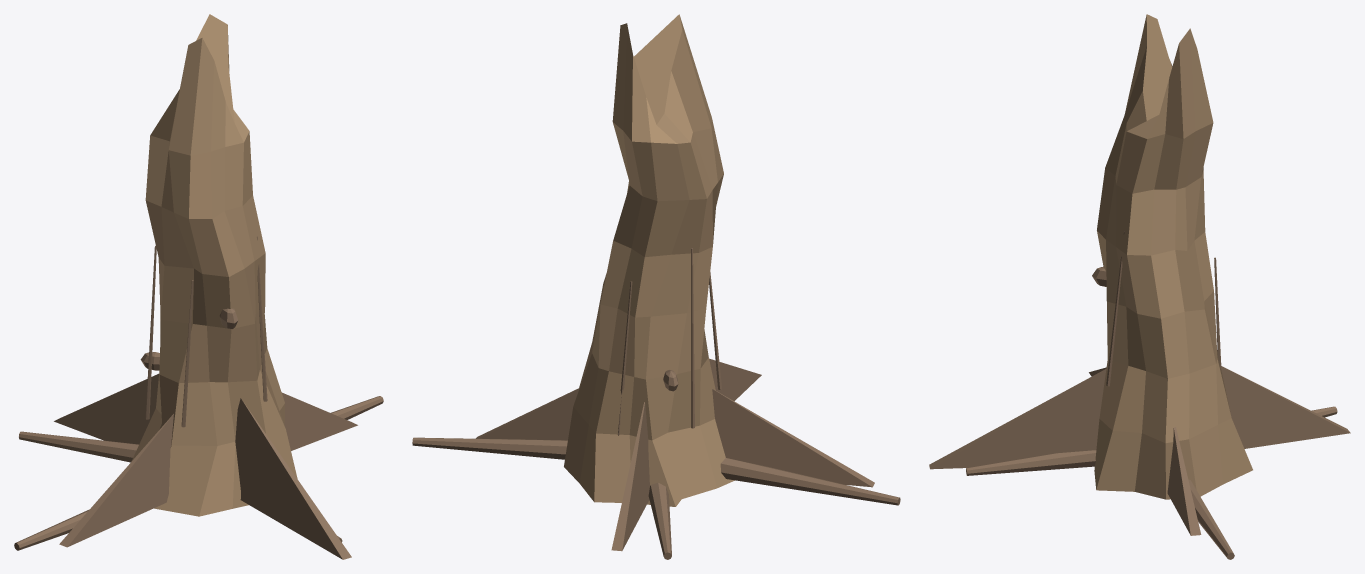
Rendered from myb_forest_trunk_broken_a.fbx.
3 views of the same model, side by side, from view 1: azimuth 30°, elevation 25°; view 2: azimuth 150°, elevation 25°; view 3: azimuth 270°, elevation 25° (orthographic). The views are drawn at different scales.
Parts seen in each view (by area): view 1: myb_forest_trunk_broken_a; view 2: myb_forest_trunk_broken_a; view 3: myb_forest_trunk_broken_a.
Boxes of the visible parts, x1=… form: myb_forest_trunk_broken_a: x1=14, y1=14, x2=383, y2=559; myb_forest_trunk_broken_a: x1=412, y1=14, x2=900, y2=559; myb_forest_trunk_broken_a: x1=929, y1=14, x2=1350, y2=559.
Bounding box in the file's own units: 2.58 × 2.62 × 2.27.
